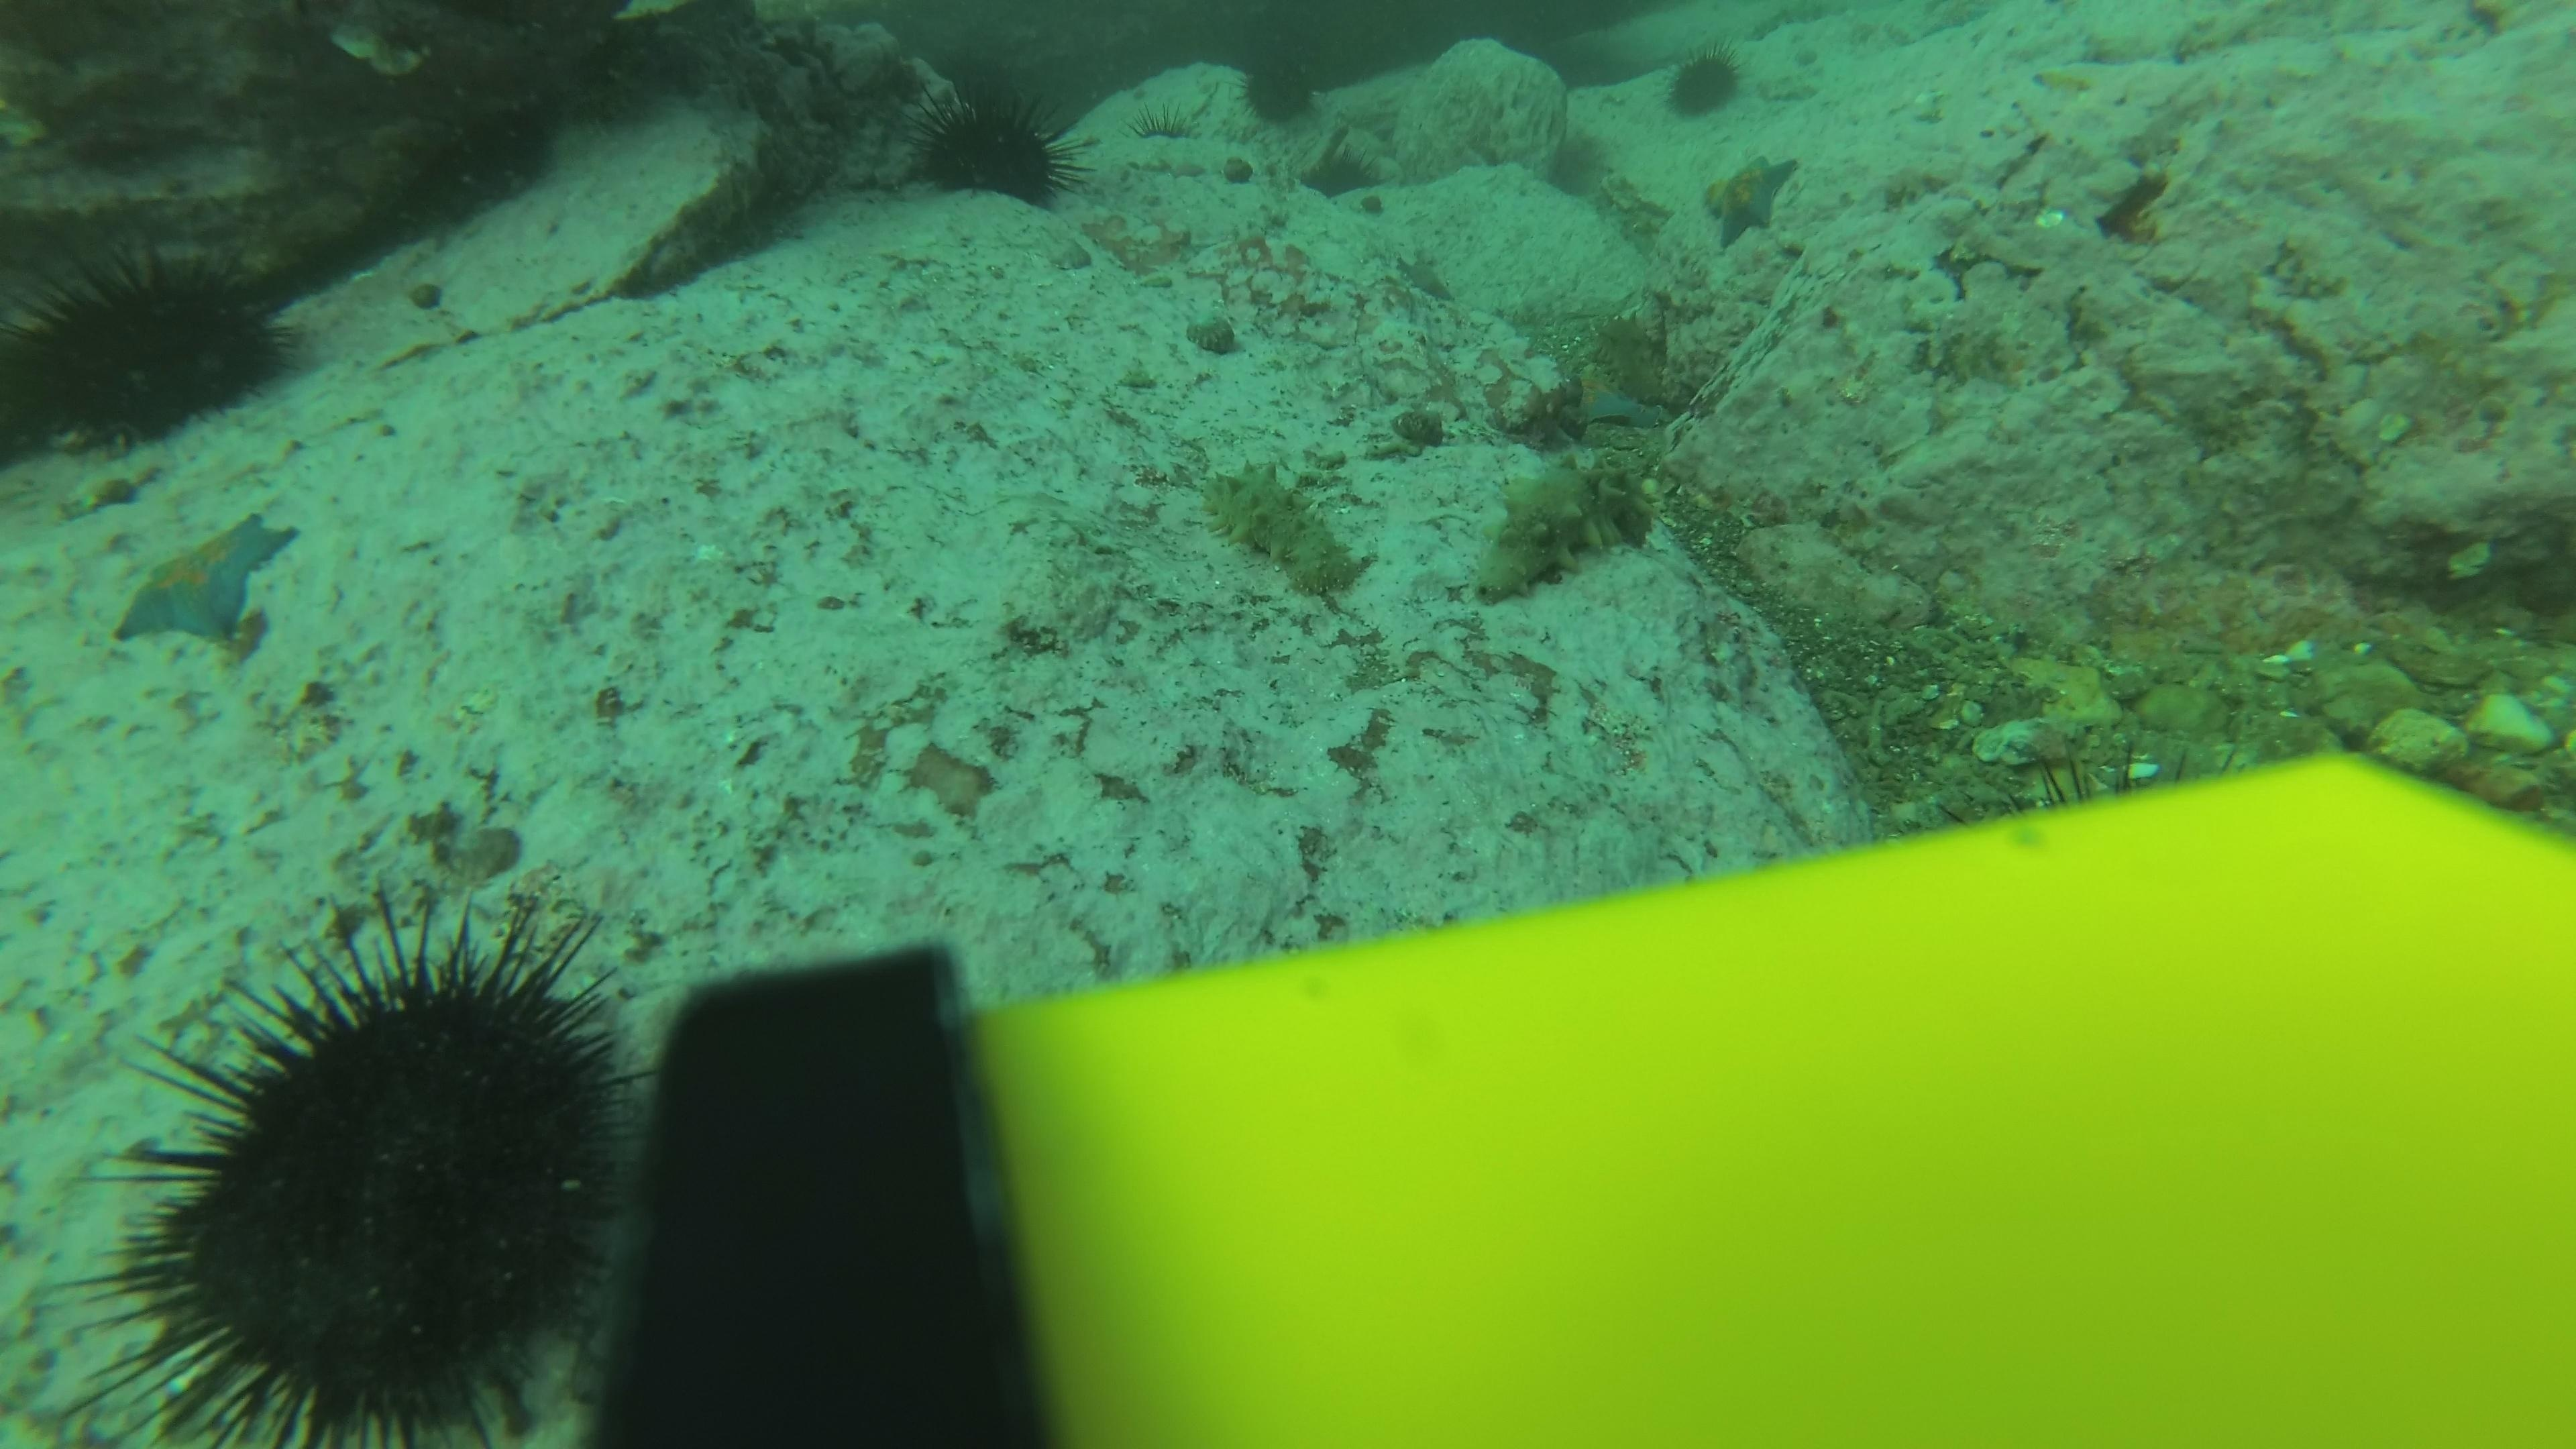echinus: (87, 899, 642, 1438), (5, 232, 304, 455), (904, 80, 1085, 212), (1231, 46, 1329, 131), (1295, 134, 1392, 219), (1658, 42, 1750, 122)
holothurian: (1465, 444, 1665, 607), (1200, 456, 1371, 602), (1580, 304, 1681, 419)
starfish: (106, 506, 303, 655), (1698, 149, 1803, 248), (1566, 363, 1681, 433), (1387, 248, 1460, 308)
